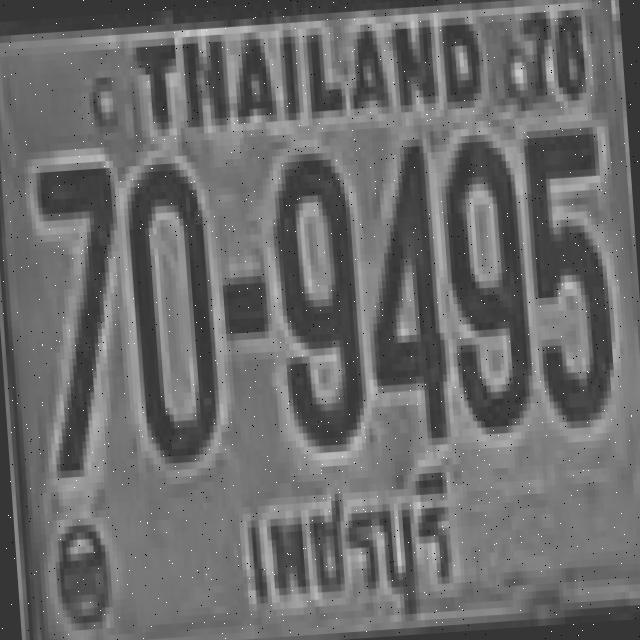0: (120, 154, 218, 458)
4: (356, 134, 447, 438)
5: (518, 120, 612, 423)
7: (31, 160, 130, 471)
9: (438, 125, 532, 428), (267, 144, 361, 440)
Phetchaburi: (232, 472, 466, 634)
